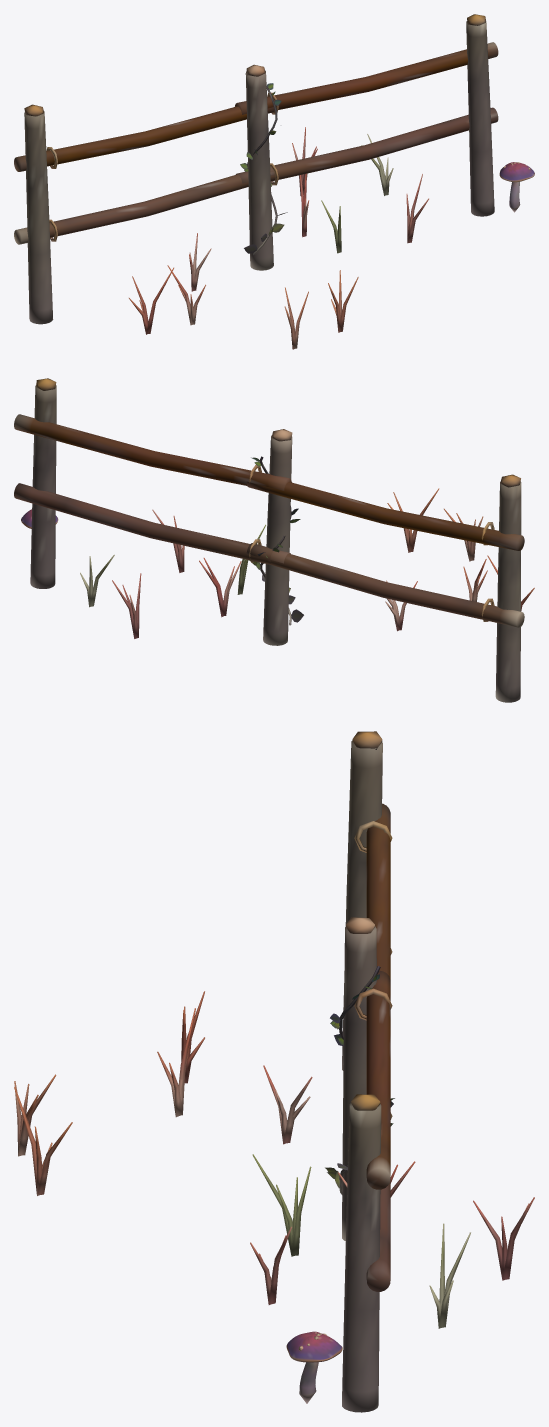
The model's file is cit.glb.
3 views of the same model, one above another, from view 1: azimuth 30°, elevation 25°; view 2: azimuth 150°, elevation 25°; view 3: azimuth 270°, elevation 25° (orthographic). The views are drawn at different scales.
Visible parts, largest first — view 1: cit_LOD0; view 2: cit_LOD0; view 3: cit_LOD0.
Boxes of the visible parts, box(x1,y1,x2,y2) form: cit_LOD0: box(14, 14, 534, 349); cit_LOD0: box(14, 378, 534, 702); cit_LOD0: box(14, 731, 534, 1412).
Size of what is drawn, in the model's own units: 3.35 by 1.38 by 1.96.
